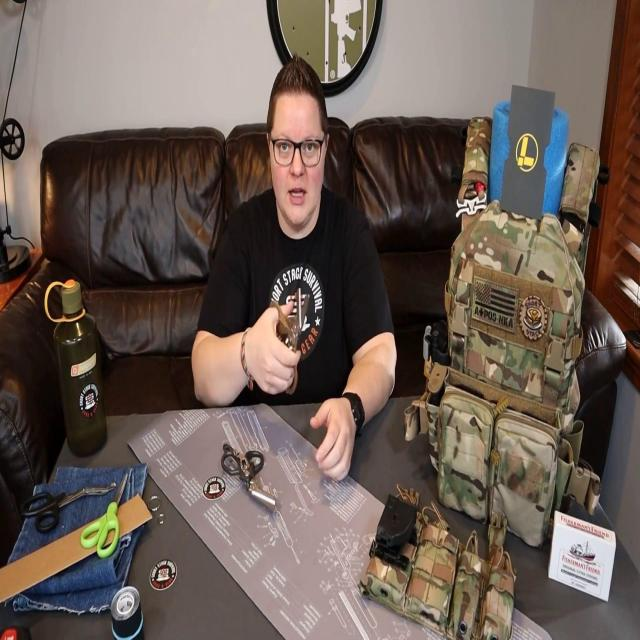scissor: (20, 480, 116, 534), (270, 288, 310, 394), (81, 472, 128, 558), (221, 442, 276, 512)
